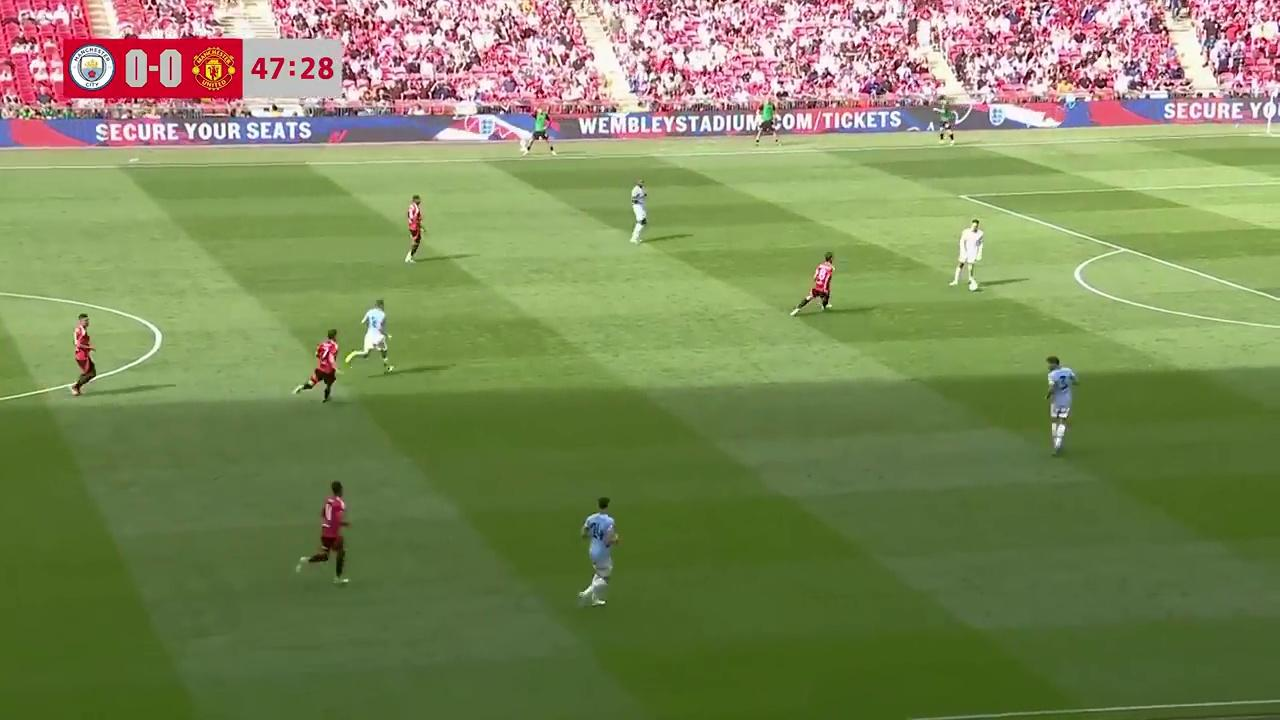ball: (968, 277, 978, 293)
player: (295, 481, 351, 584), (578, 497, 620, 608), (291, 330, 339, 402), (1045, 355, 1077, 453), (949, 218, 983, 290), (359, 299, 393, 370), (794, 253, 834, 313), (72, 313, 96, 396), (405, 195, 425, 263), (630, 179, 648, 244)
